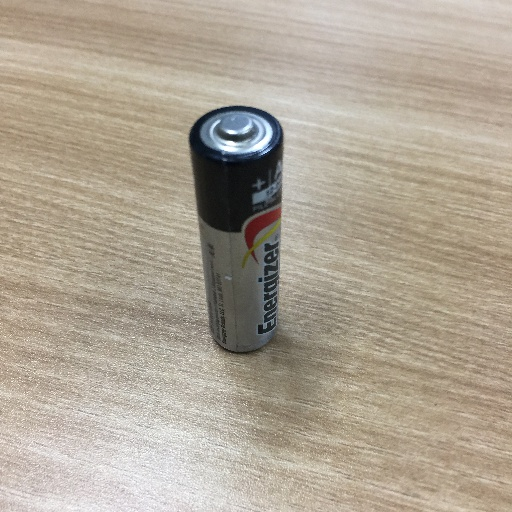Battery_0: (188, 93, 300, 366)
